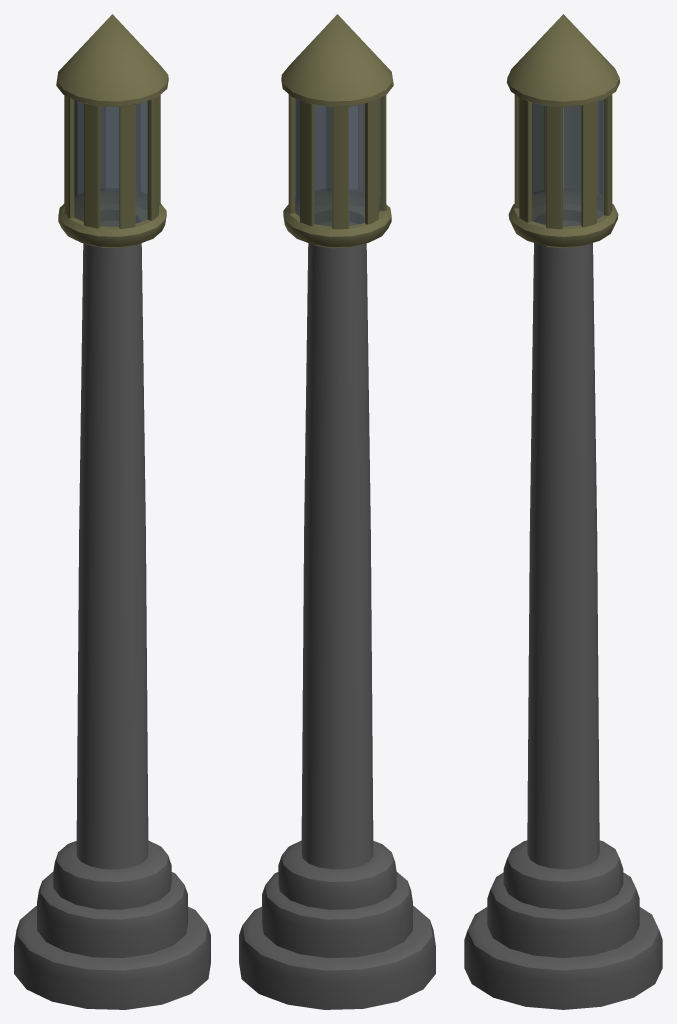
File: poste.fbx
3 renders of one model, left to right at view 1: azimuth 30°, elevation 25°; view 2: azimuth 150°, elevation 25°; view 3: azimuth 270°, elevation 25°, orthographic.
Visible parts, largest first — view 1: pCylinder1; view 2: pCylinder1; view 3: pCylinder1.
Part boxes in pixels (box(x1,y1,x2,y2)): pCylinder1: box(14, 14, 210, 1009); pCylinder1: box(239, 14, 435, 1009); pCylinder1: box(464, 14, 662, 1009).
Size of the model in its own units: 1.19 by 6.33 by 1.19.
